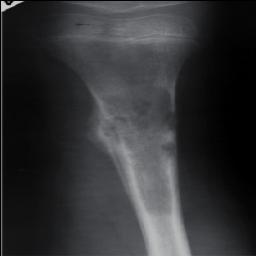cancer: (83, 85, 174, 172)
